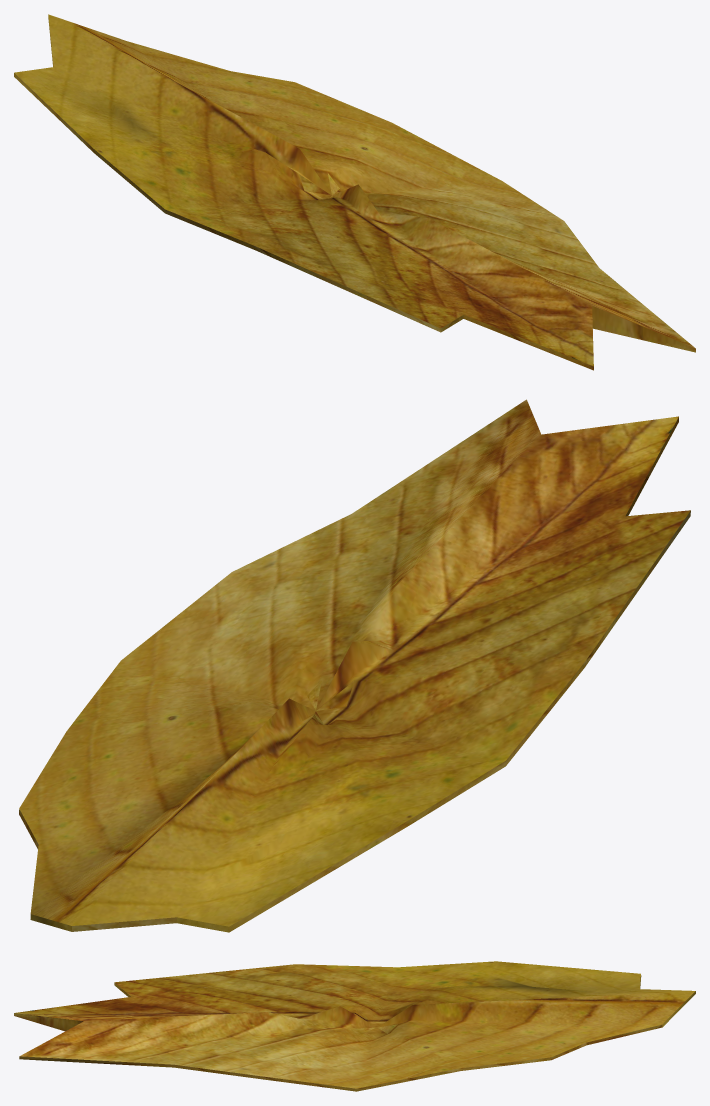
The model's file is leaf.obj.
The picture shows the model from 3 angles, top to bottom: view 1: azimuth 30°, elevation 25°; view 2: azimuth 150°, elevation 25°; view 3: azimuth 270°, elevation 25°; orthographic projection. The views are drawn at different scales.
Parts seen in each view (by area): view 1: Cylinder01; view 2: Cylinder01; view 3: Cylinder01.
Boxes of the visible parts, <box> form: Cylinder01: <box>14,14,695,370</box>; Cylinder01: <box>19,399,690,932</box>; Cylinder01: <box>14,961,695,1091</box>.
Size of the model in its own units: 3.87 by 0.5935 by 10.71.
